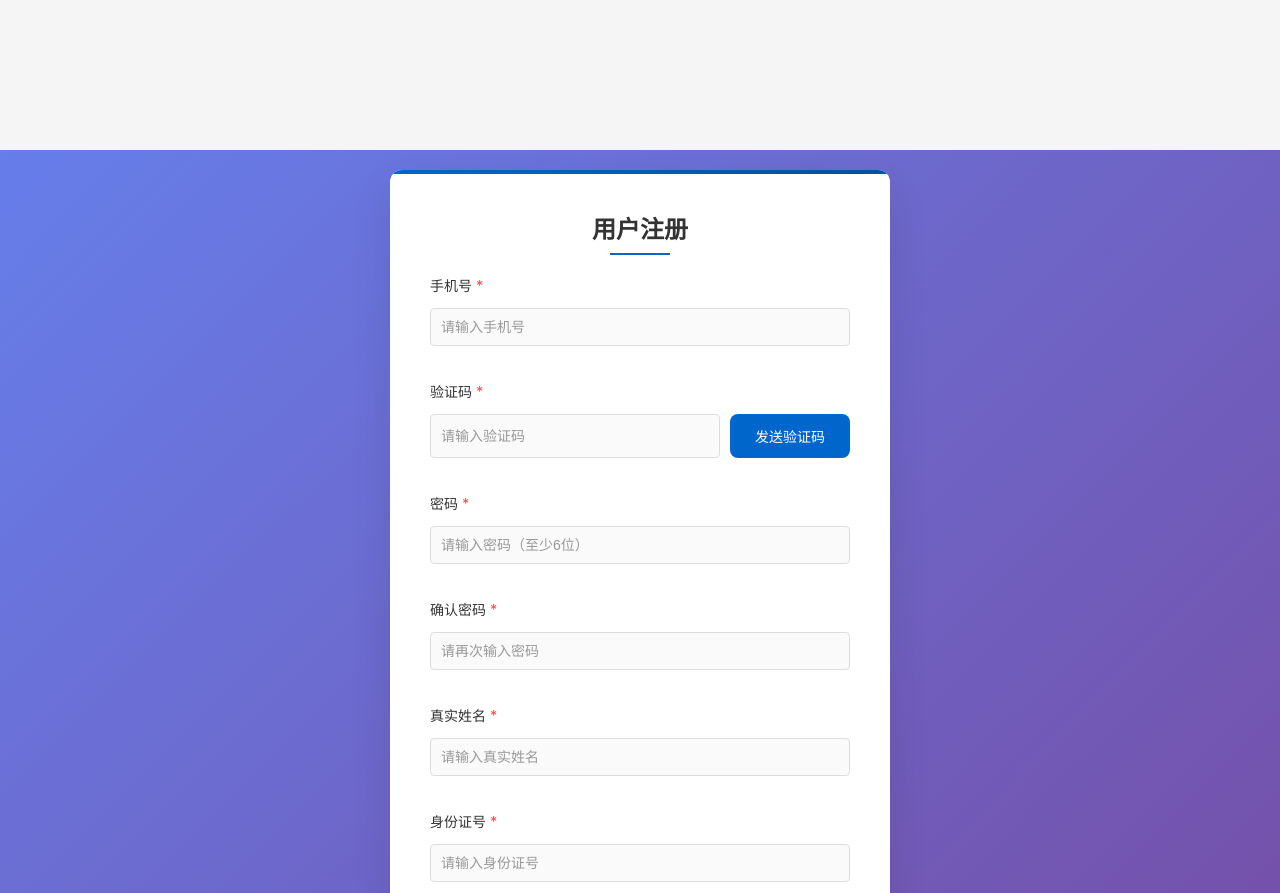
Test: RegisterPage Component › 应该验证手机号格式
#  输入无效手机号
Type "123456" into the field labelled "手机号" at (640, 327), box [430,308,850,346]
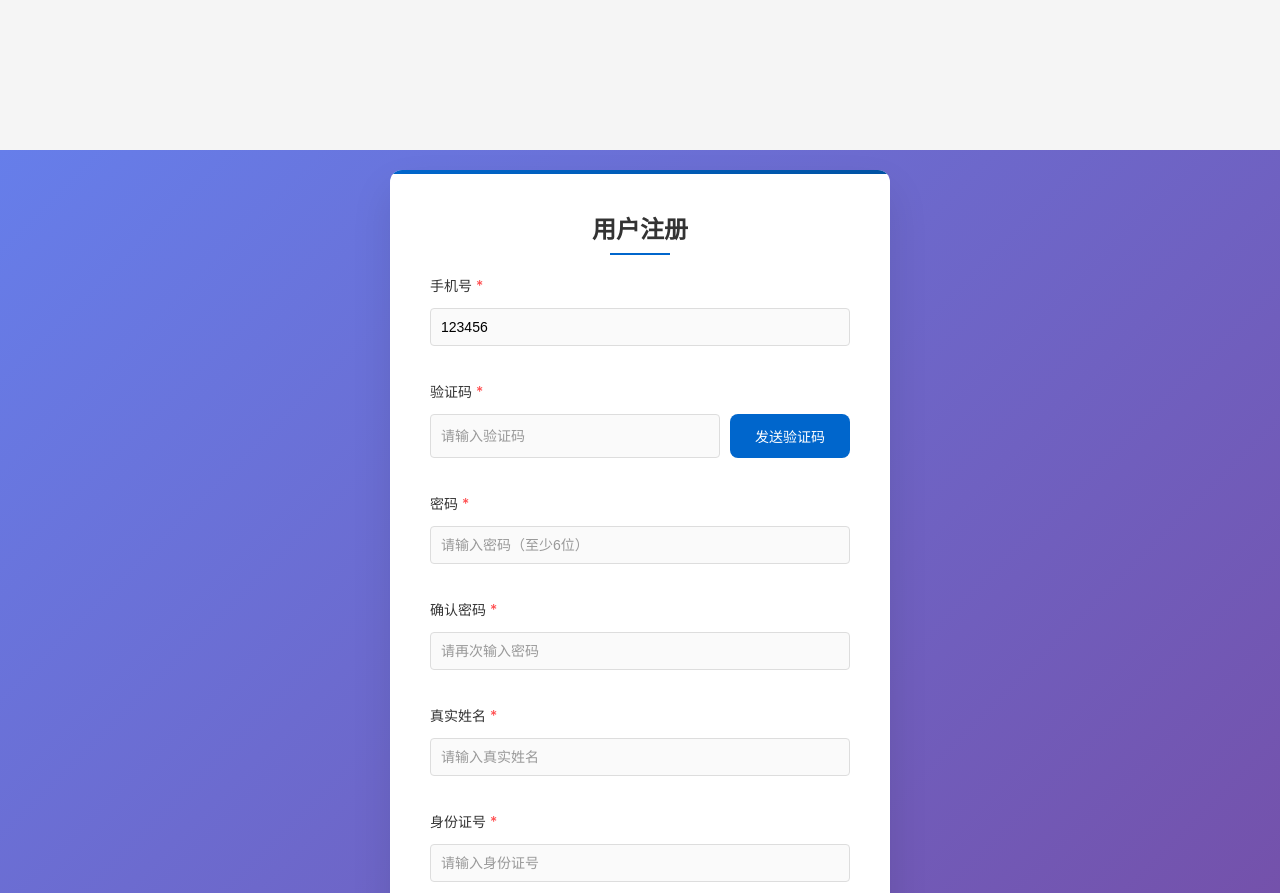
Click the button "发送验证码" at (790, 436), box [730,414,850,458]
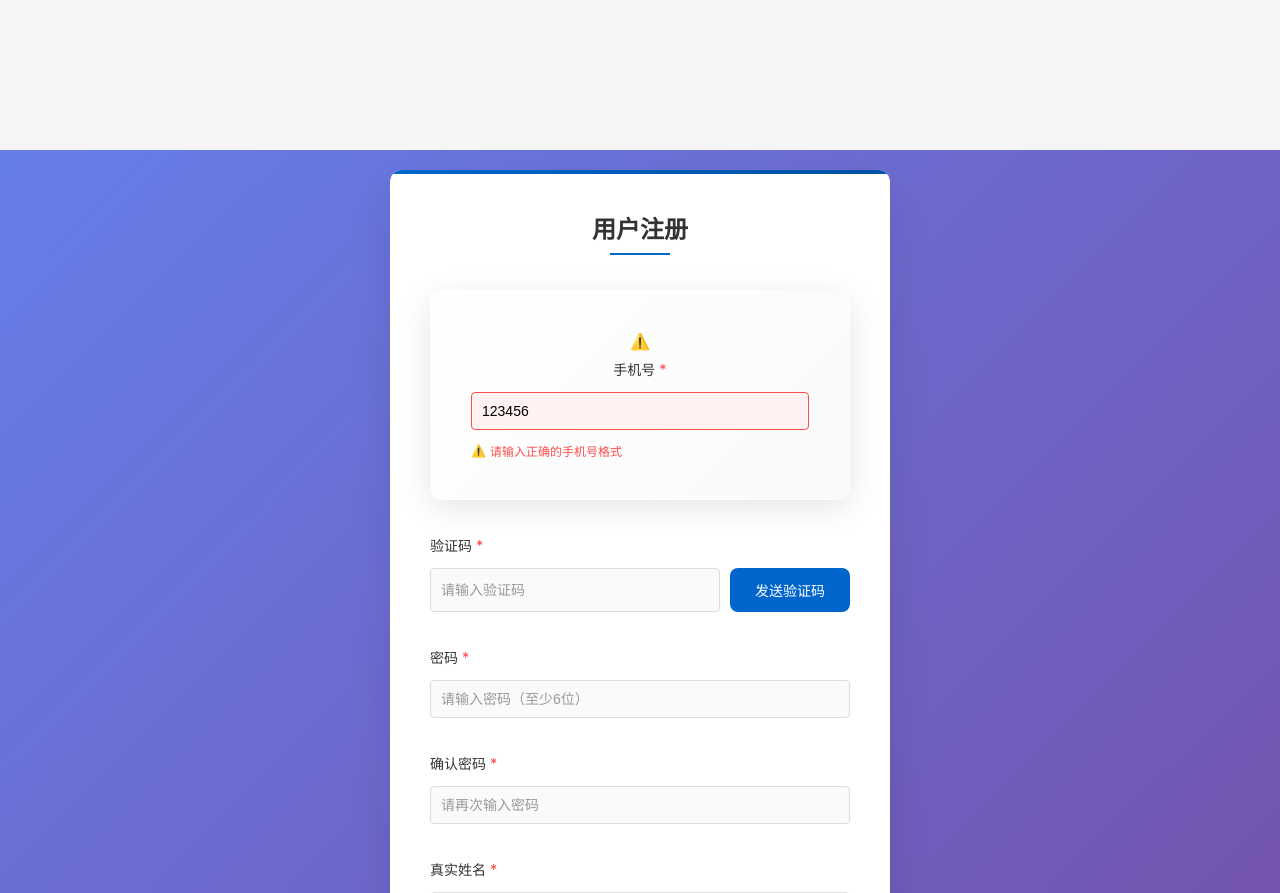
Result: the text "请输入正确的手机号格式" is shown at [490,444,622,459]
